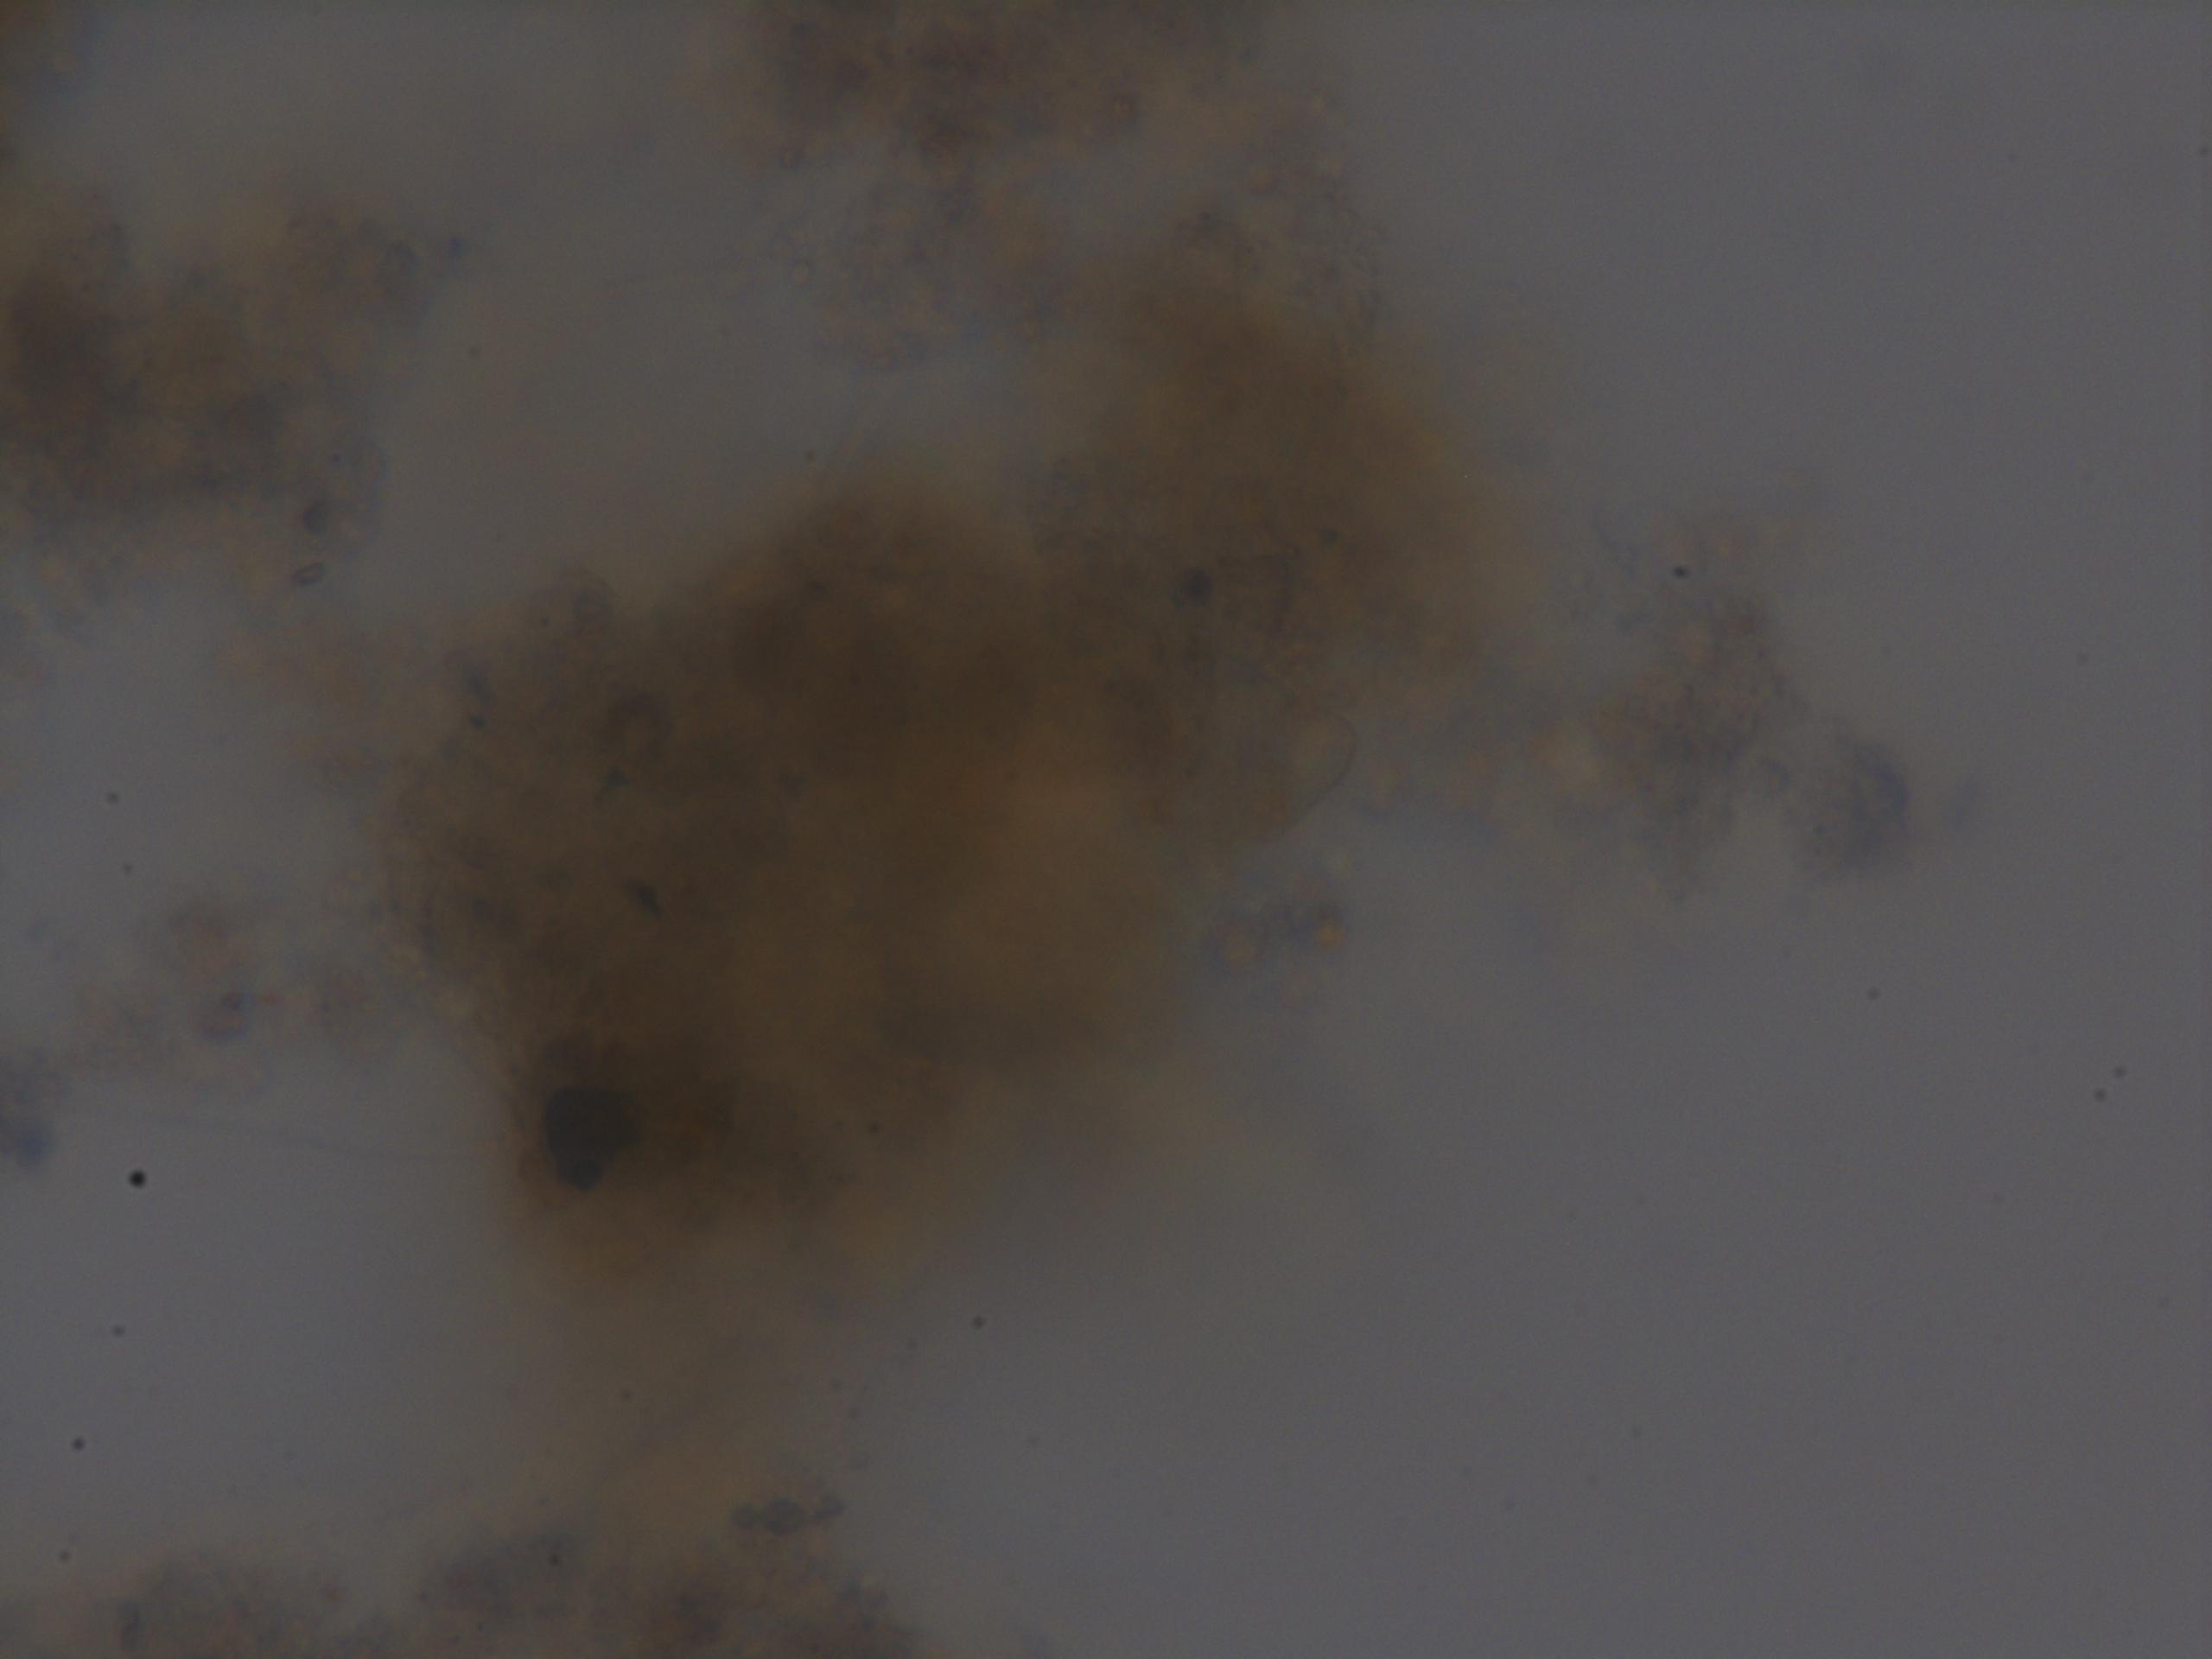spherical_floc: (387, 232, 1550, 1312)
